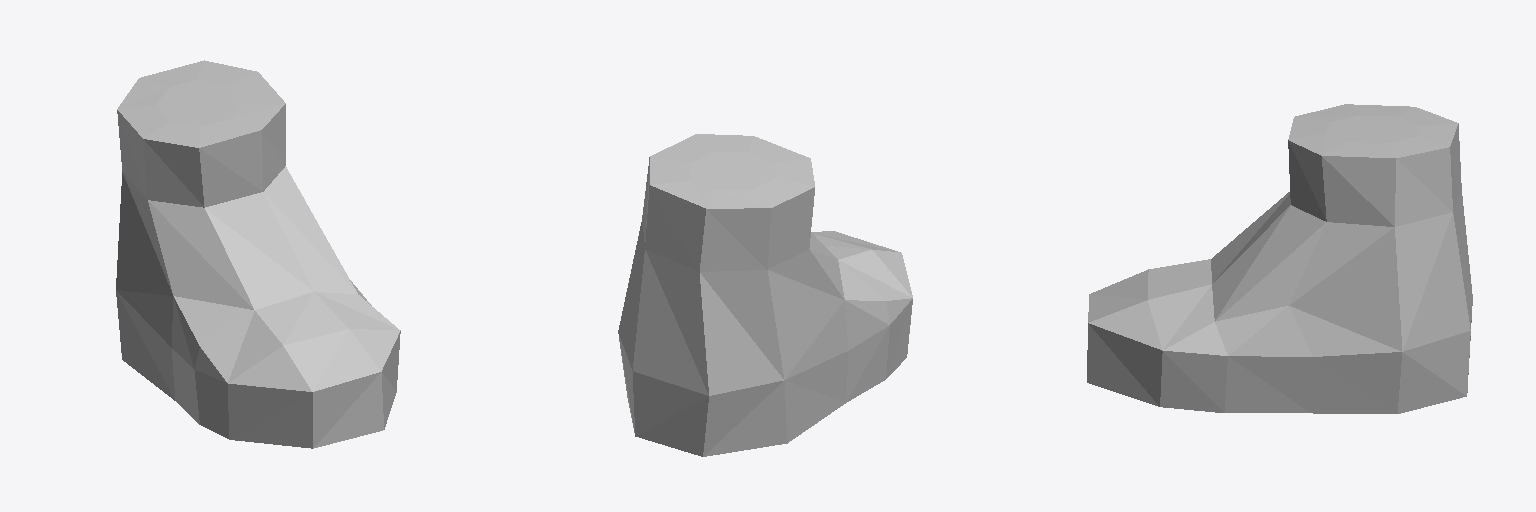
Rendered from kei footleft.obj.
The picture shows the model from 3 angles: view 1: azimuth 30°, elevation 25°; view 2: azimuth 150°, elevation 25°; view 3: azimuth 270°, elevation 25°; orthographic projection.
Parts seen in each view (by area): view 1: model459.013; view 2: model459.013; view 3: model459.013.
Part boxes in pixels (bbox=[...]): model459.013: bbox=[116, 60, 400, 448]; model459.013: bbox=[618, 134, 912, 456]; model459.013: bbox=[1087, 104, 1472, 413].
Bounding box in the file's own units: 1.9 × 2.52 × 3.47.